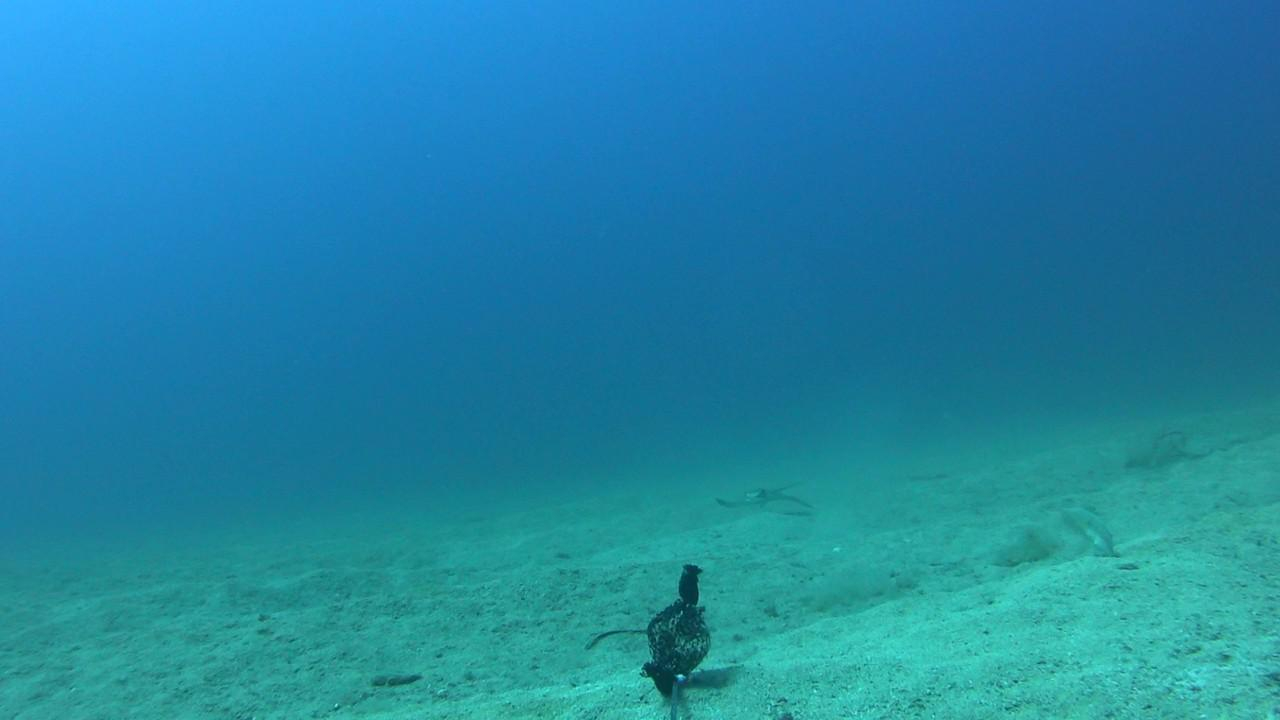myliobatis: (709, 472, 822, 519)
raor: (1046, 493, 1116, 557)
